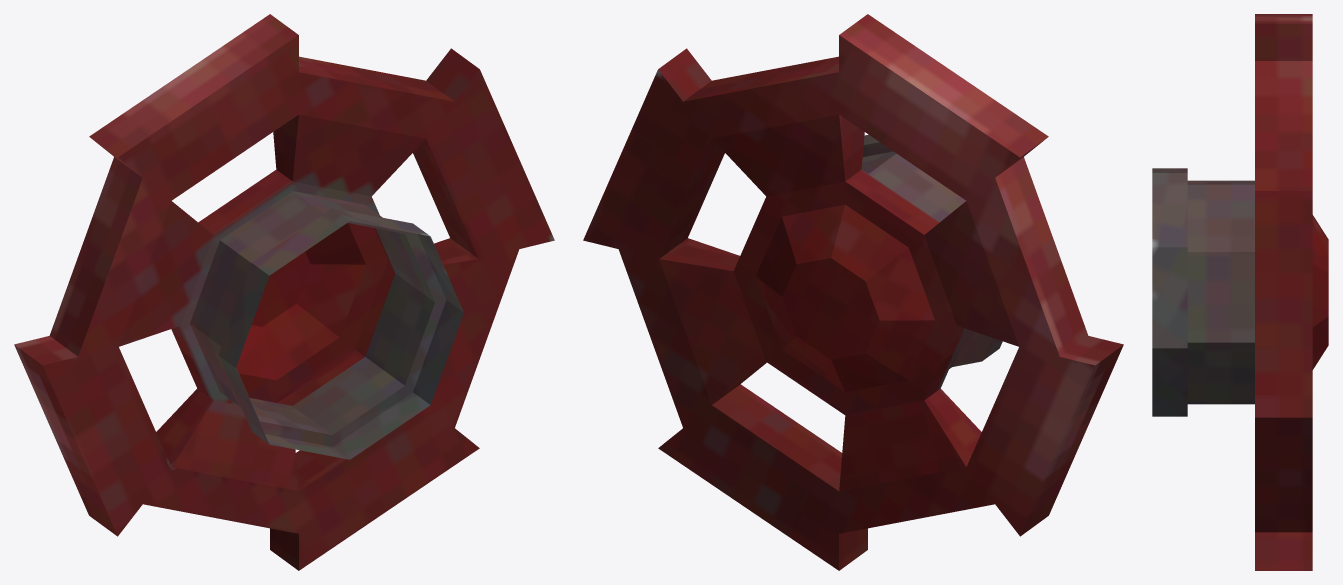
File: ventel.fbx
3 views of the same model, side by side, from view 1: azimuth 30°, elevation 25°; view 2: azimuth 150°, elevation 25°; view 3: azimuth 270°, elevation 25° (orthographic).
Visible parts, largest first — view 1: Cylinder.001; view 2: Cylinder.001; view 3: Cylinder.001.
Boxes of the visible parts, left/top/right/bottom form: Cylinder.001: left=14, top=14, right=554, bottom=570; Cylinder.001: left=583, top=14, right=1123, bottom=570; Cylinder.001: left=1152, top=14, right=1328, bottom=570.
Size of the model in its own units: 75.03 by 75.03 by 22.32.
